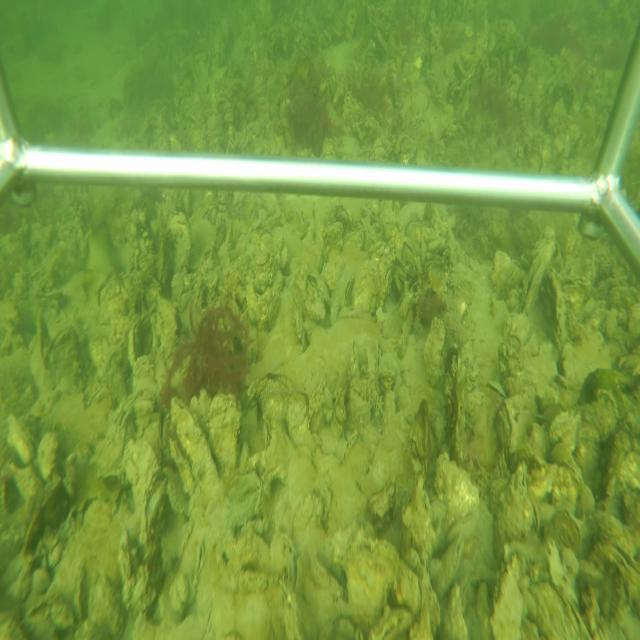Oyster-Closed: (493, 458, 539, 558), (519, 232, 557, 314), (426, 532, 465, 598), (542, 267, 572, 349), (393, 557, 423, 621), (494, 398, 517, 465), (127, 312, 146, 370), (84, 376, 110, 412), (341, 275, 354, 310)
Oyster-Indeterminate: (337, 541, 397, 621), (432, 450, 480, 535), (486, 552, 524, 640), (205, 392, 242, 474), (419, 314, 447, 390), (439, 583, 472, 639)
Oyster-Open: (138, 469, 166, 555), (592, 539, 637, 590)
